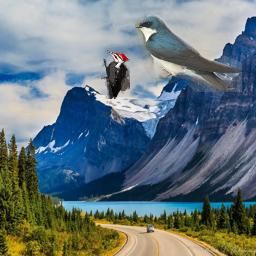Swallow: (135, 15, 242, 92)
Woodpecker: (101, 50, 130, 99)
